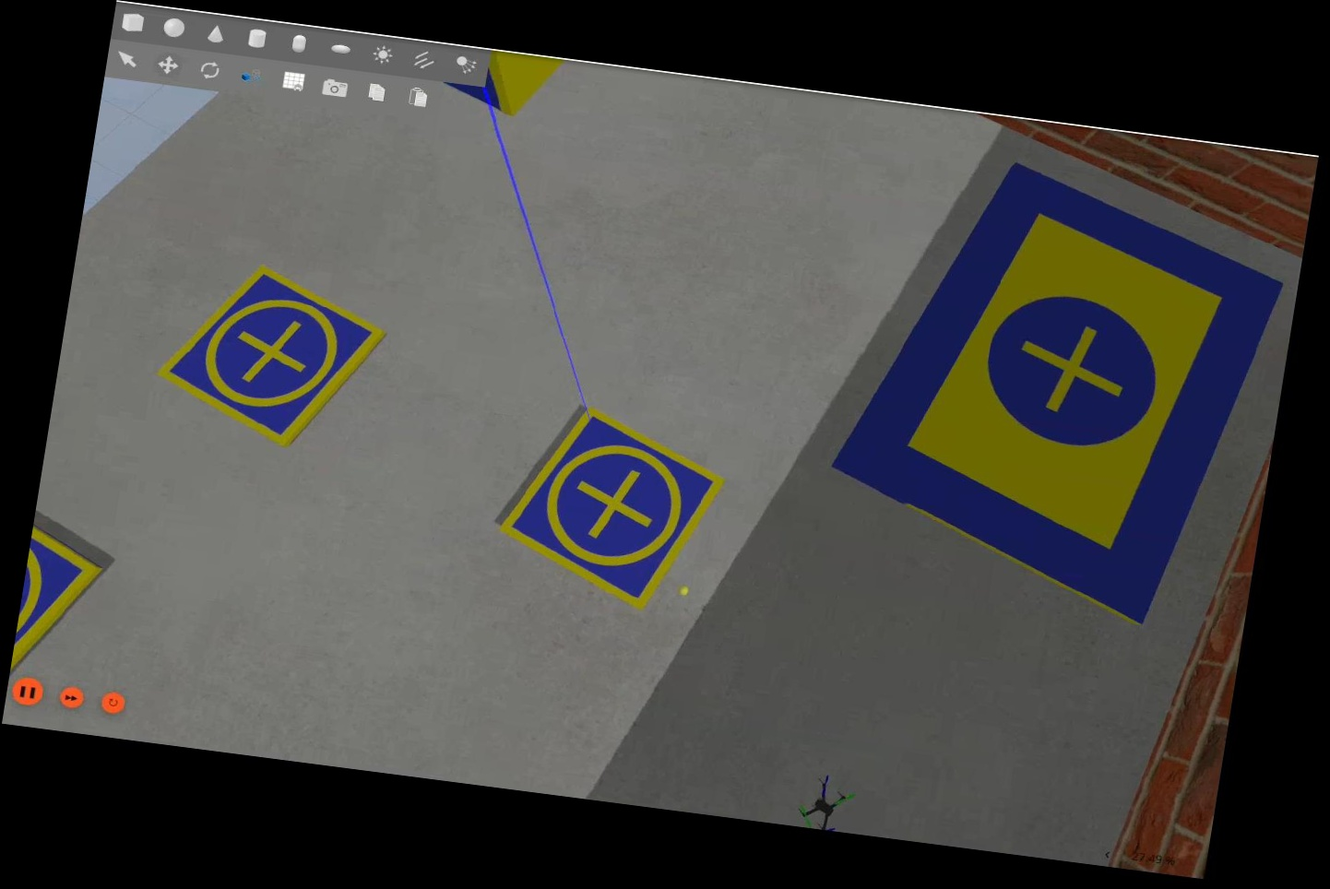large_base: (809, 139, 1300, 634)
small_base: (485, 400, 735, 617), (145, 253, 397, 462), (9, 521, 106, 684)
